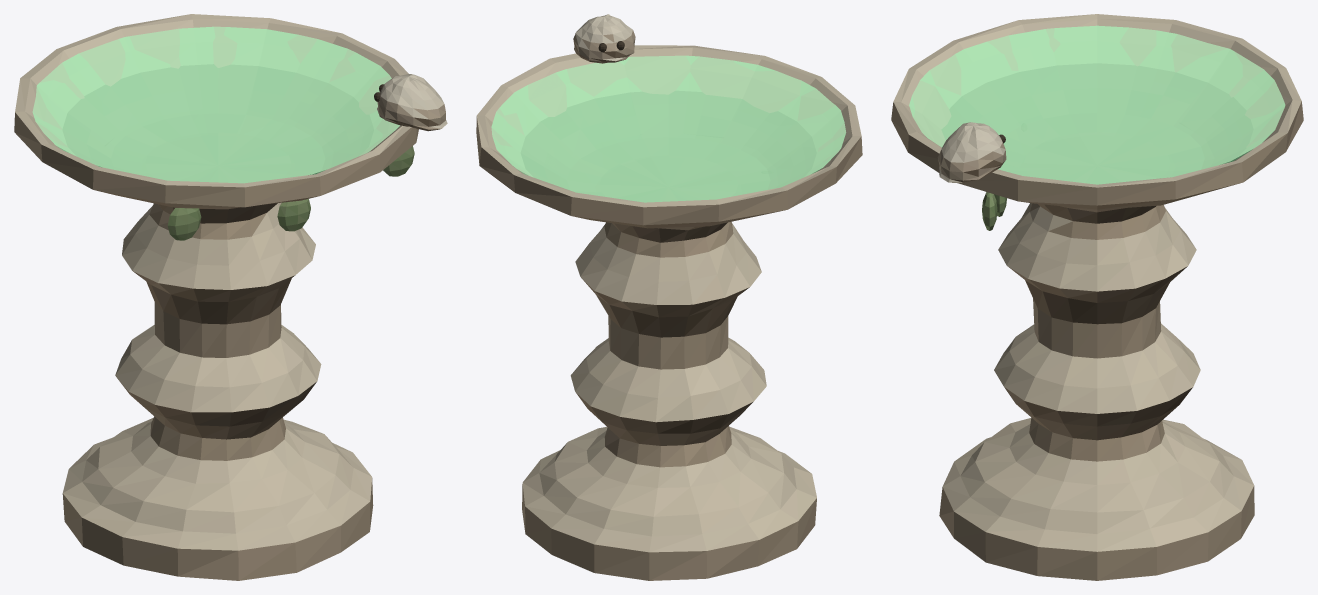
File: Slime_Birdbath.glb
3 views of the same model, side by side, from view 1: azimuth 30°, elevation 25°; view 2: azimuth 150°, elevation 25°; view 3: azimuth 270°, elevation 25° (orthographic). The views are drawn at different scales.
Visible parts, largest first — view 1: Slime_Birdbath_Solid_Merged, Slime_Birdbath_Liquid; view 2: Slime_Birdbath_Solid_Merged, Slime_Birdbath_Liquid; view 3: Slime_Birdbath_Solid_Merged, Slime_Birdbath_Liquid.
Boxes of the visible parts, x1,y1,x2,y2 form: Slime_Birdbath_Solid_Merged: (14,14,447,580); Slime_Birdbath_Liquid: (32,26,399,183); Slime_Birdbath_Solid_Merged: (476,14,862,580); Slime_Birdbath_Liquid: (491,55,846,202); Slime_Birdbath_Solid_Merged: (891,14,1303,580); Slime_Birdbath_Liquid: (909,25,1285,184).
Bounding box in the file's own units: 0.7706 × 0.9419 × 0.7766.
